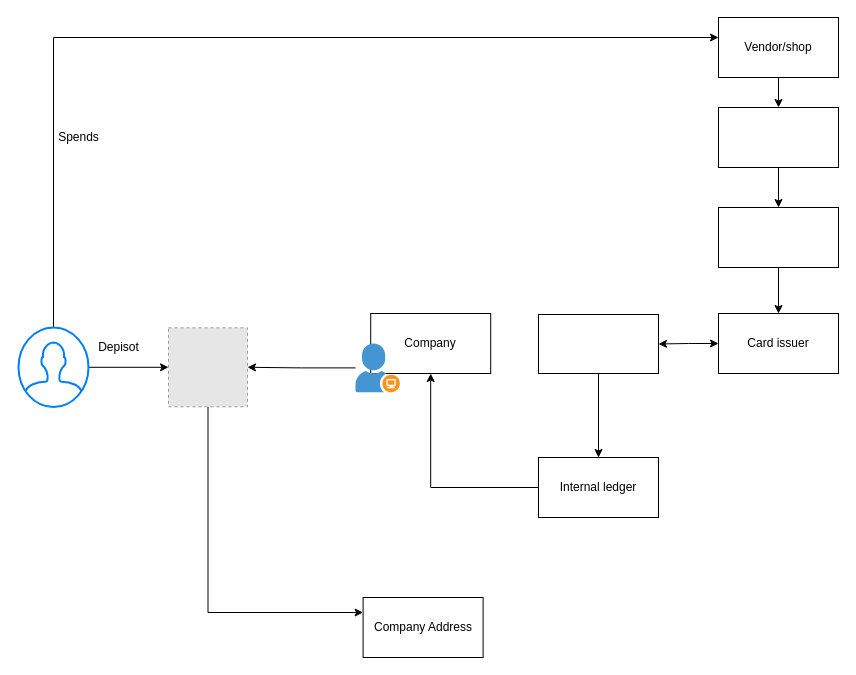
Image size: 856x675. Some labels were removed from this diagram. Grey dashed boxes stand in for pictures. The shapes that lost their labels are listed below. From the top down, each one's centre as x and y in pixels, then its label:
At point (778, 137): "POS".
At point (778, 237): "Visa/Mastercard".
At point (598, 344): "Company tressury".
